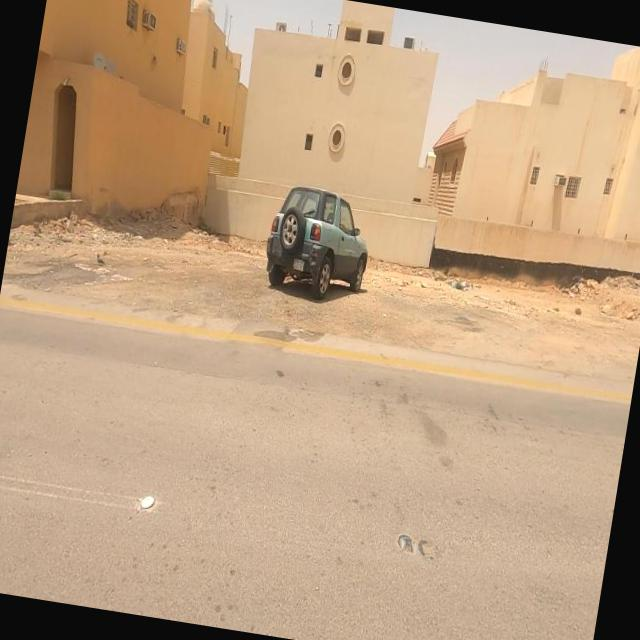debris: (439, 258, 491, 318)
